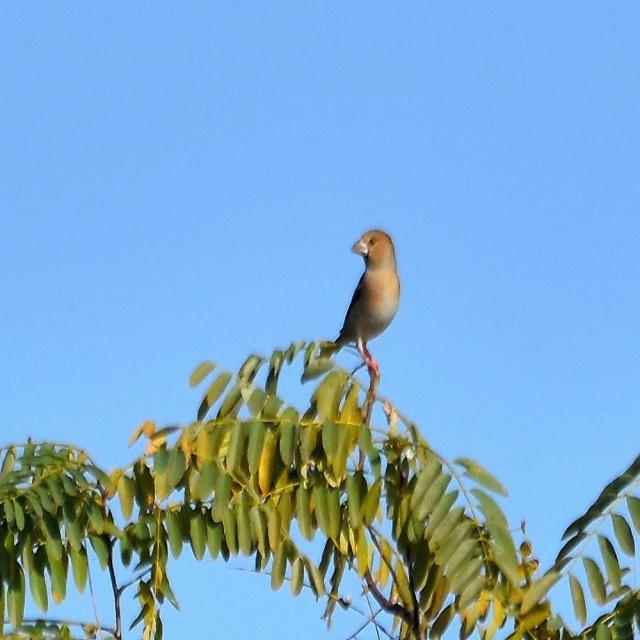bird: (329, 228, 405, 370)
